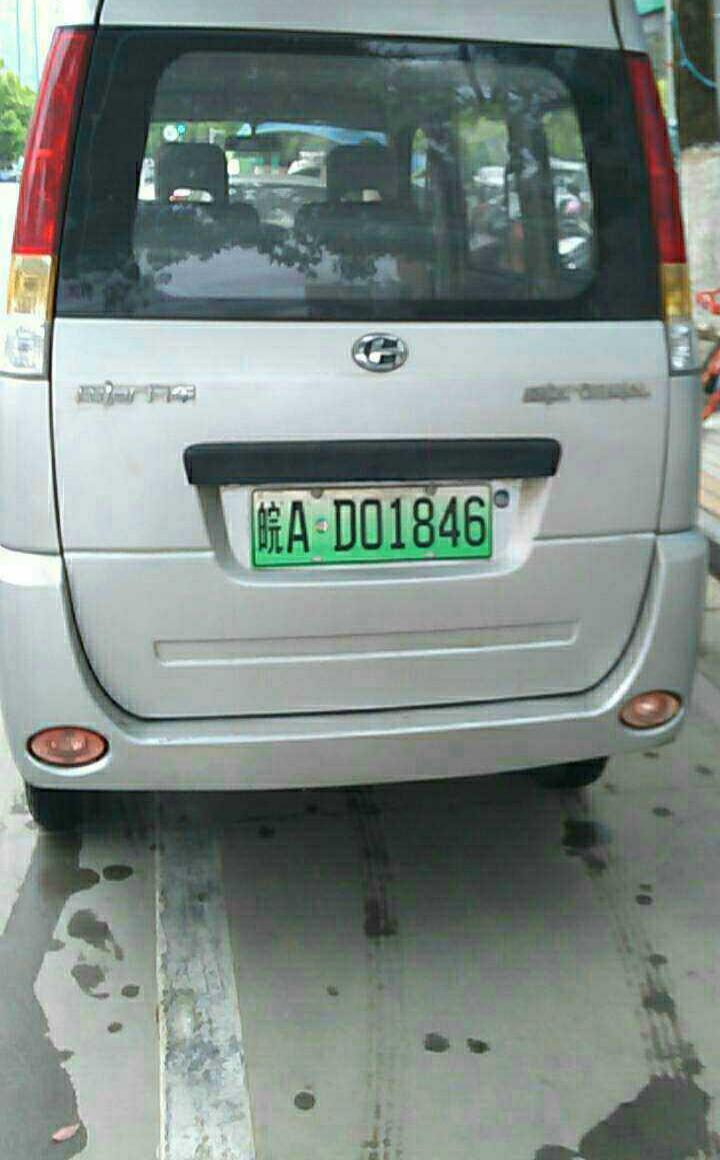car_id: (249, 482, 492, 567)
